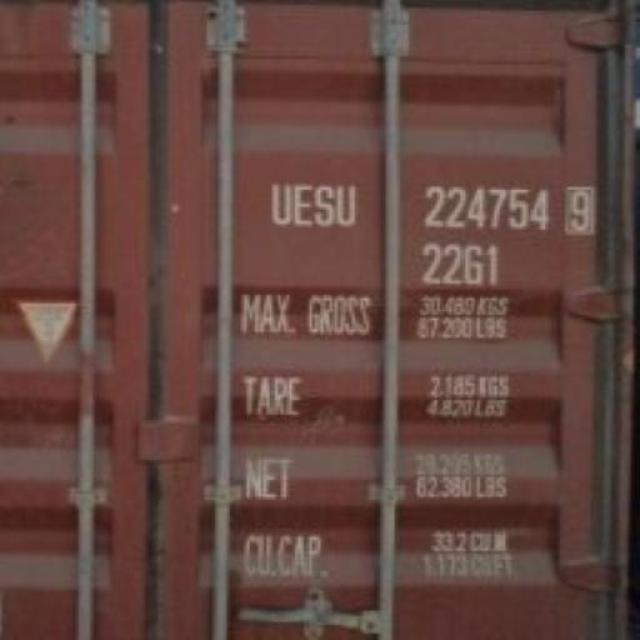ISO: (422, 242, 504, 292)
container_number: (258, 175, 608, 242)
